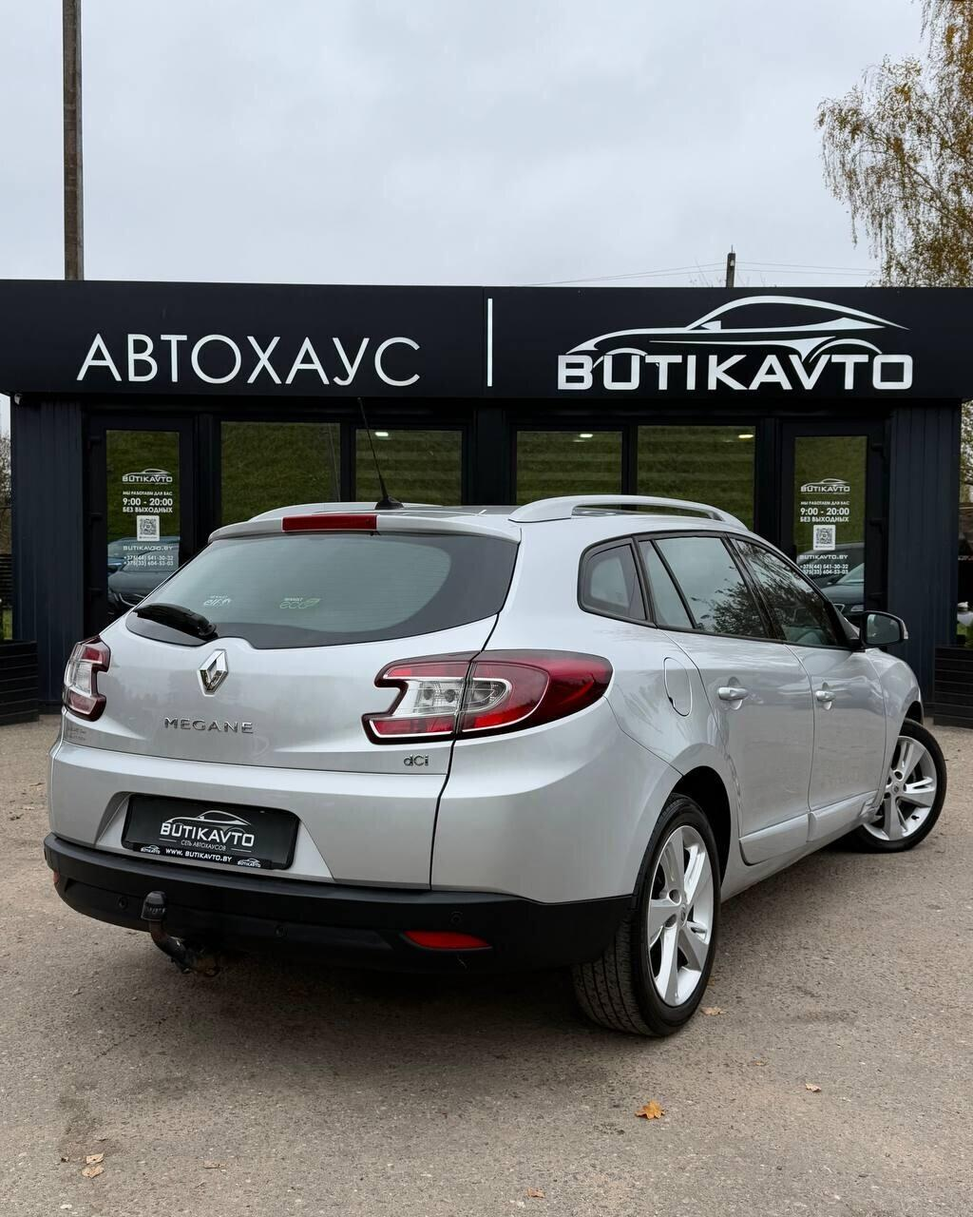Megane_2012-2014: (27, 488, 950, 1035)
